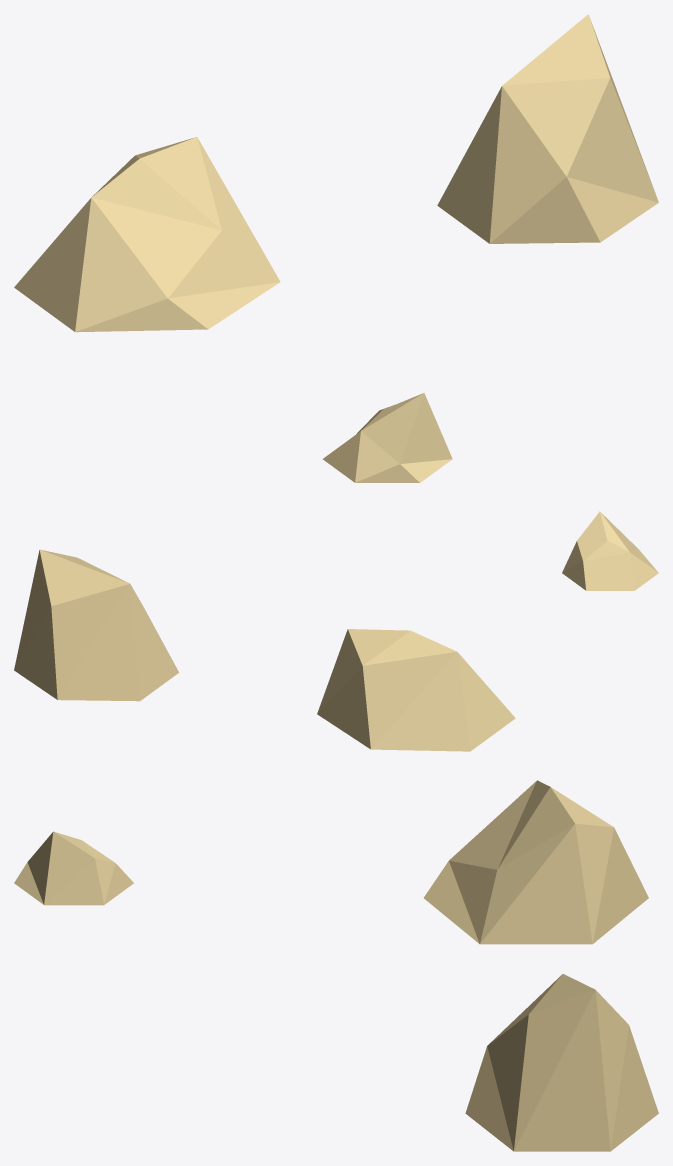
Rendered from plane_grass_rock01.FBX.
The picture shows the model from 3 angles, top to bottom: view 1: azimuth 30°, elevation 25°; view 2: azimuth 150°, elevation 25°; view 3: azimuth 270°, elevation 25°; orthographic projection. The views are drawn at different scales.
Parts seen in each view (by area): view 1: rock002; view 2: rock002; view 3: rock002.
Boxes of the visible parts, left/top/right/bottom form: rock002: left=14, top=14, right=658, bottom=482; rock002: left=14, top=511, right=658, bottom=751; rock002: left=14, top=780, right=658, bottom=1151.
Size of the model in its own units: 28.26 by 7.29 by 28.38.
Materials: 1 (1 with a texture image).
